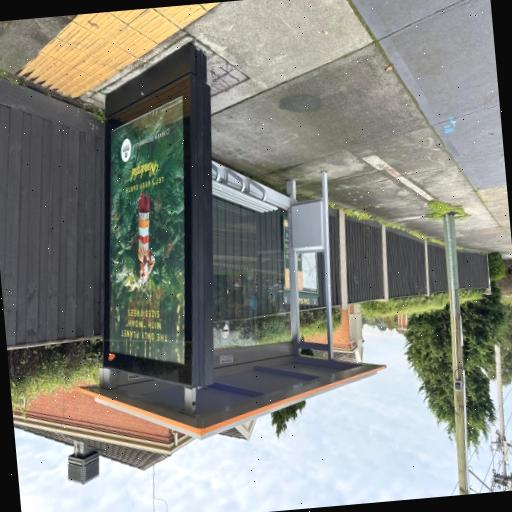clear_path: (180, 0, 479, 223)
tgsi: (22, 5, 218, 98)
